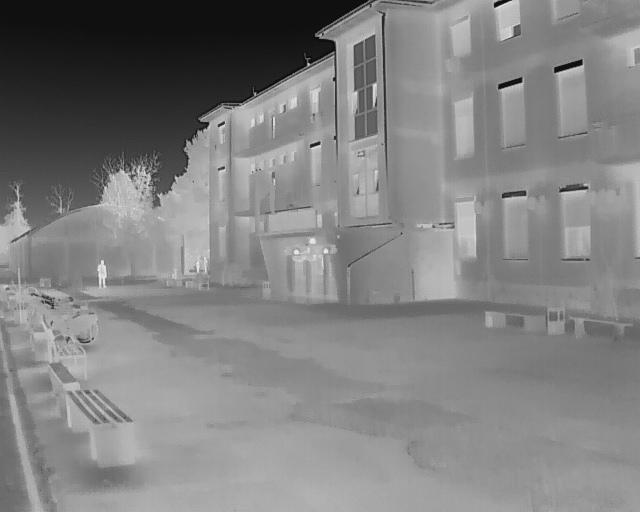drone: (279, 232, 348, 269)
